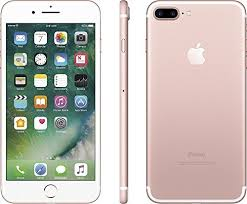iphone: (141, 1, 247, 204)
iphone7: (141, 1, 247, 204), (1, 1, 105, 202)
